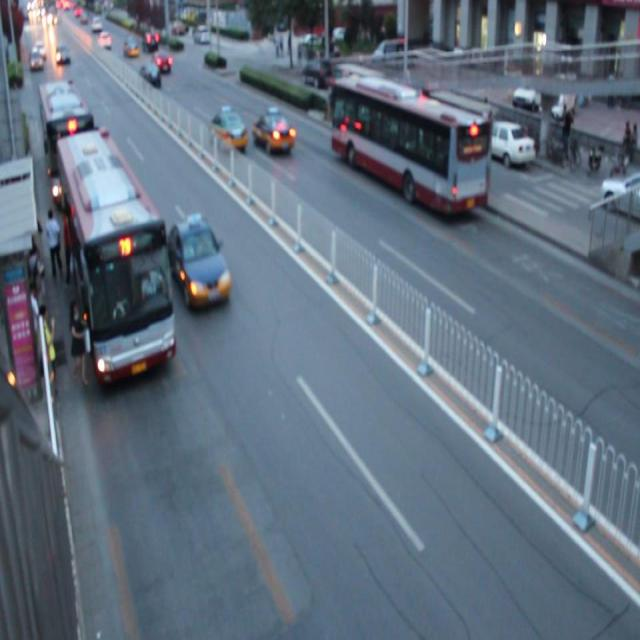car: (169, 219, 230, 308), (252, 112, 294, 155), (206, 110, 247, 154), (137, 62, 160, 88)
van: (57, 137, 174, 380), (332, 77, 488, 215), (37, 82, 95, 201)
